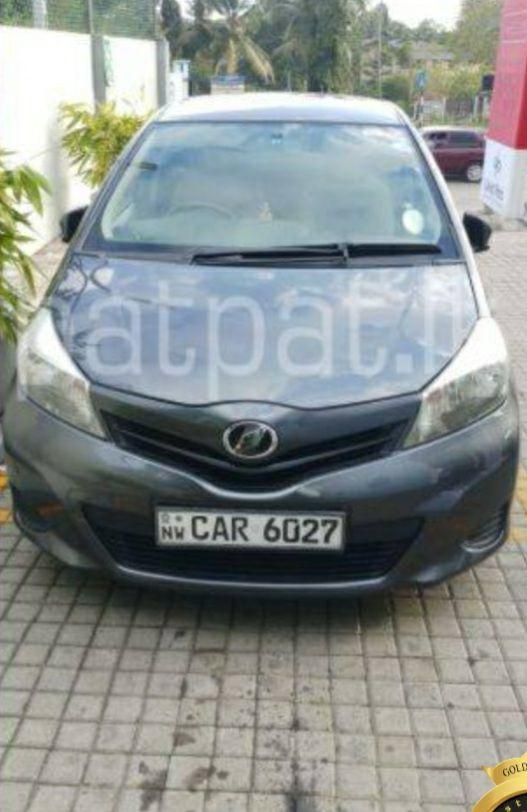license-plate: (156, 509, 341, 548)
